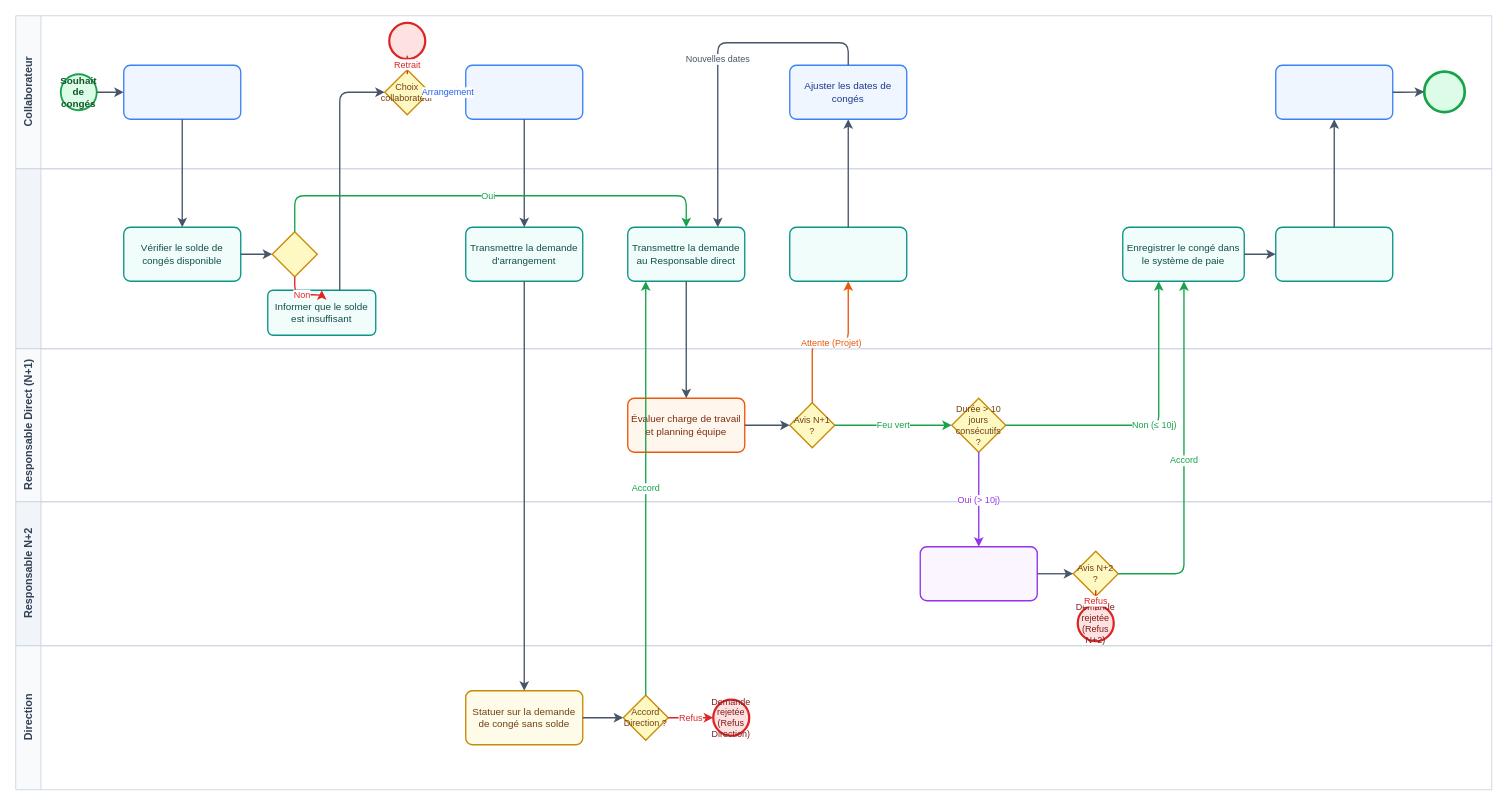
This 1508x806 diagram has some shape labels left out. Here are the shapes that lost their labels. From the top down, the box of each, then its label:
(388, 21, 426, 60): Demande annulée
(123, 64, 241, 120): Envoyer la demande de congés (dates & durée)
(465, 64, 583, 120): Demander un arrangement (ex: congé sans solde)
(1275, 64, 1393, 120): Recevoir la confirmation
(1422, 70, 1466, 113): Congé validé & planifié
(271, 231, 318, 277): Solde suffisant ?
(15, 168, 1492, 349): Gestionnaire RH (Narrateur)
(789, 226, 907, 282): Proposer au collaborateur de décaler les dates
(1275, 226, 1393, 282): Envoyer la confirmation écrite (dates validées)
(919, 546, 1038, 601): Instruire la demande (> 10 jours)
